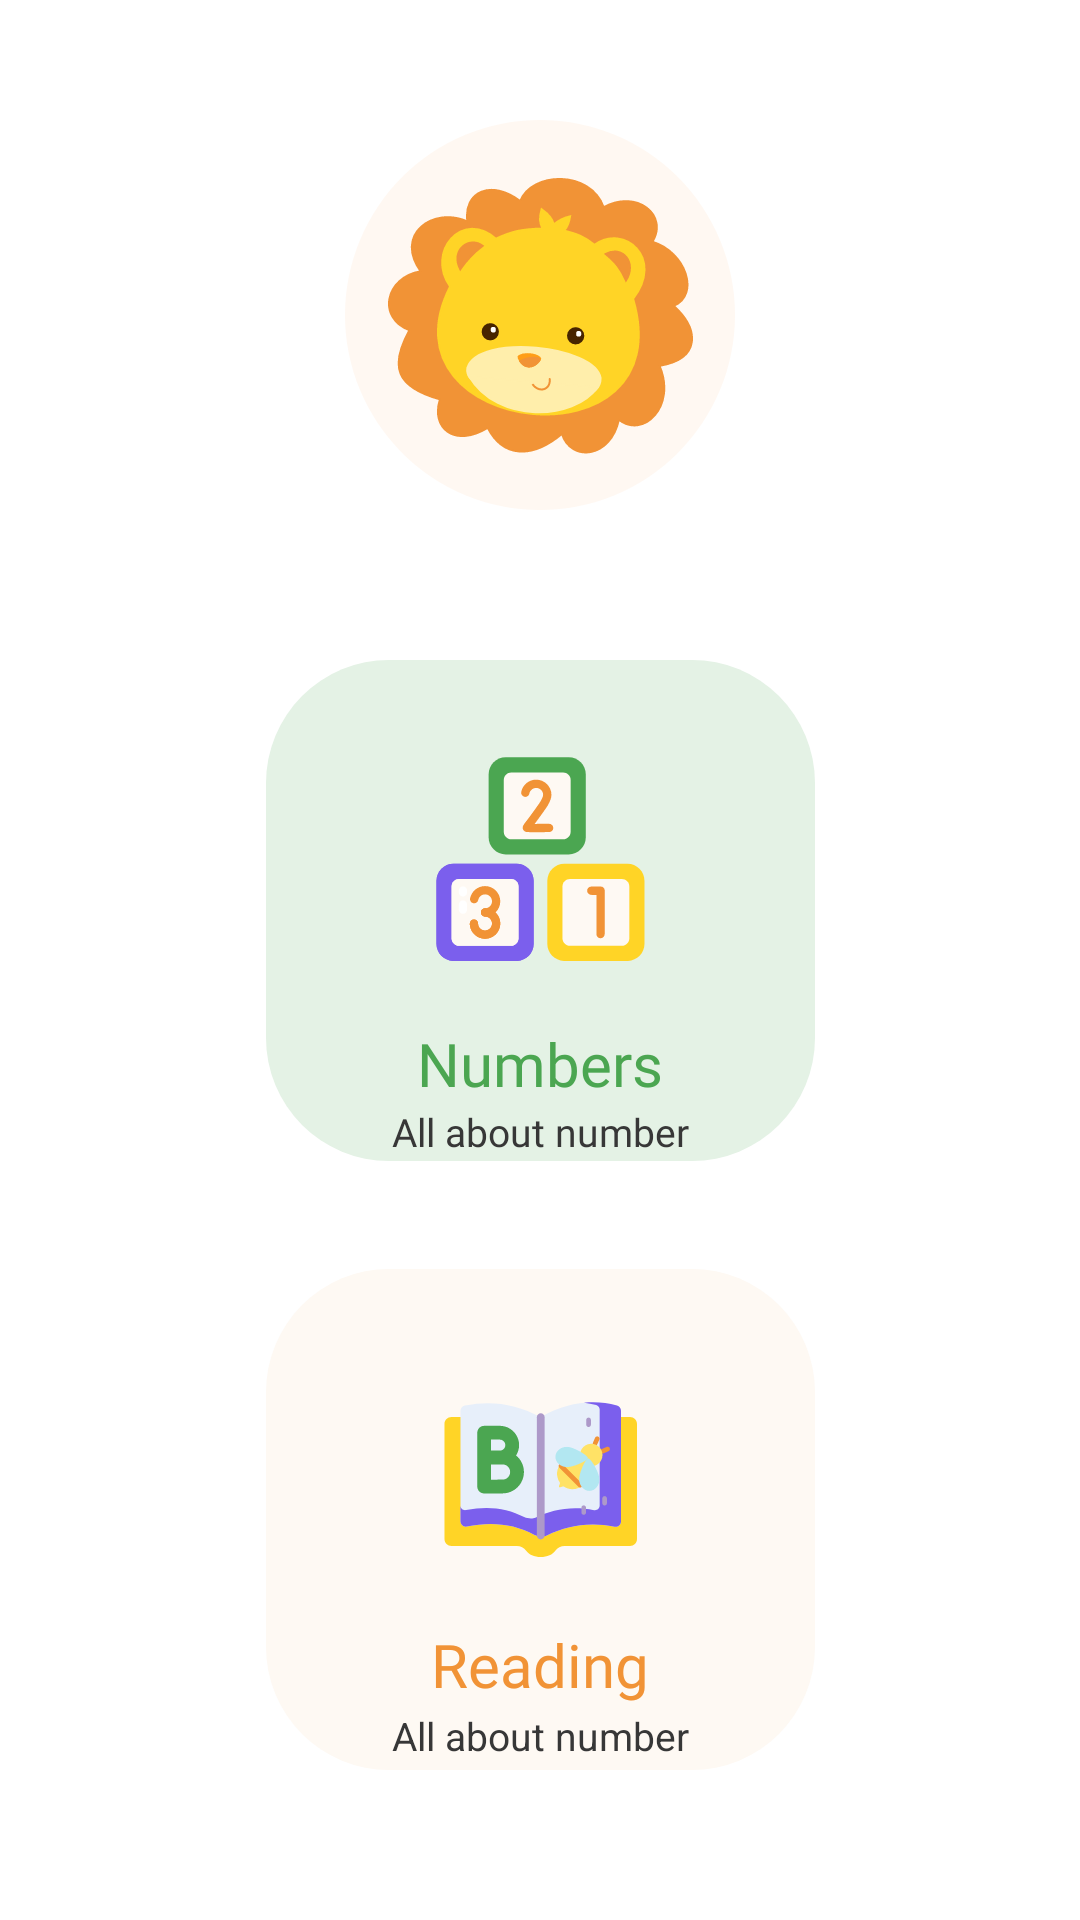

Icon click points for this 1080*1920 phone screenshot, format [x,y]:
blocks: [540,859]
book: [540,1479]
lion: [540,316]
